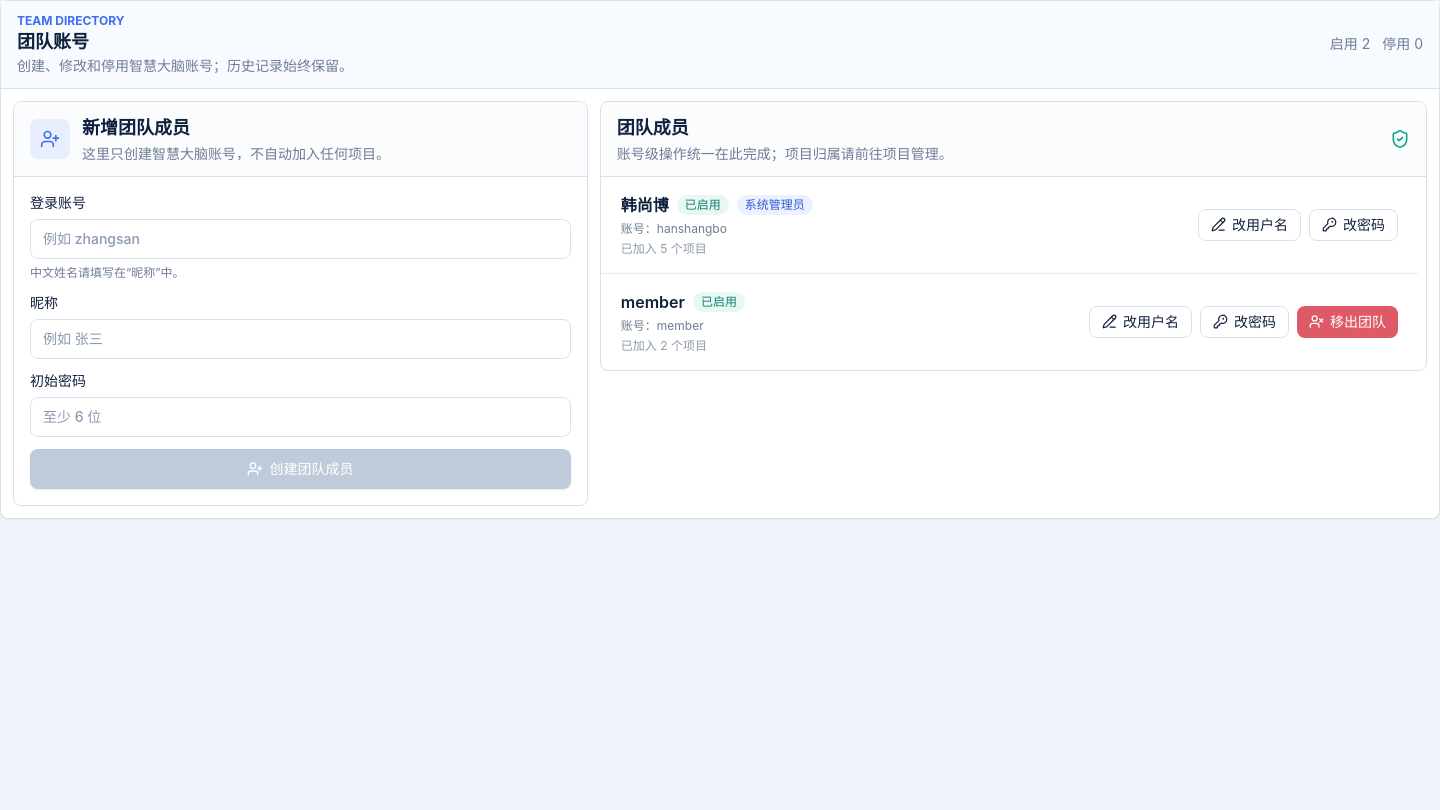
Test: TeamPage › creates and deactivates SmartBrain team members from one system-admin page
Expected: the heading "团队账号" is shown, [17,31,89,52]
Expected: the text "韩尚博" is shown, [621,192,669,216]
Type "newmember" into the field labelled "登录账号" at (300, 238), box [30,218,571,258]
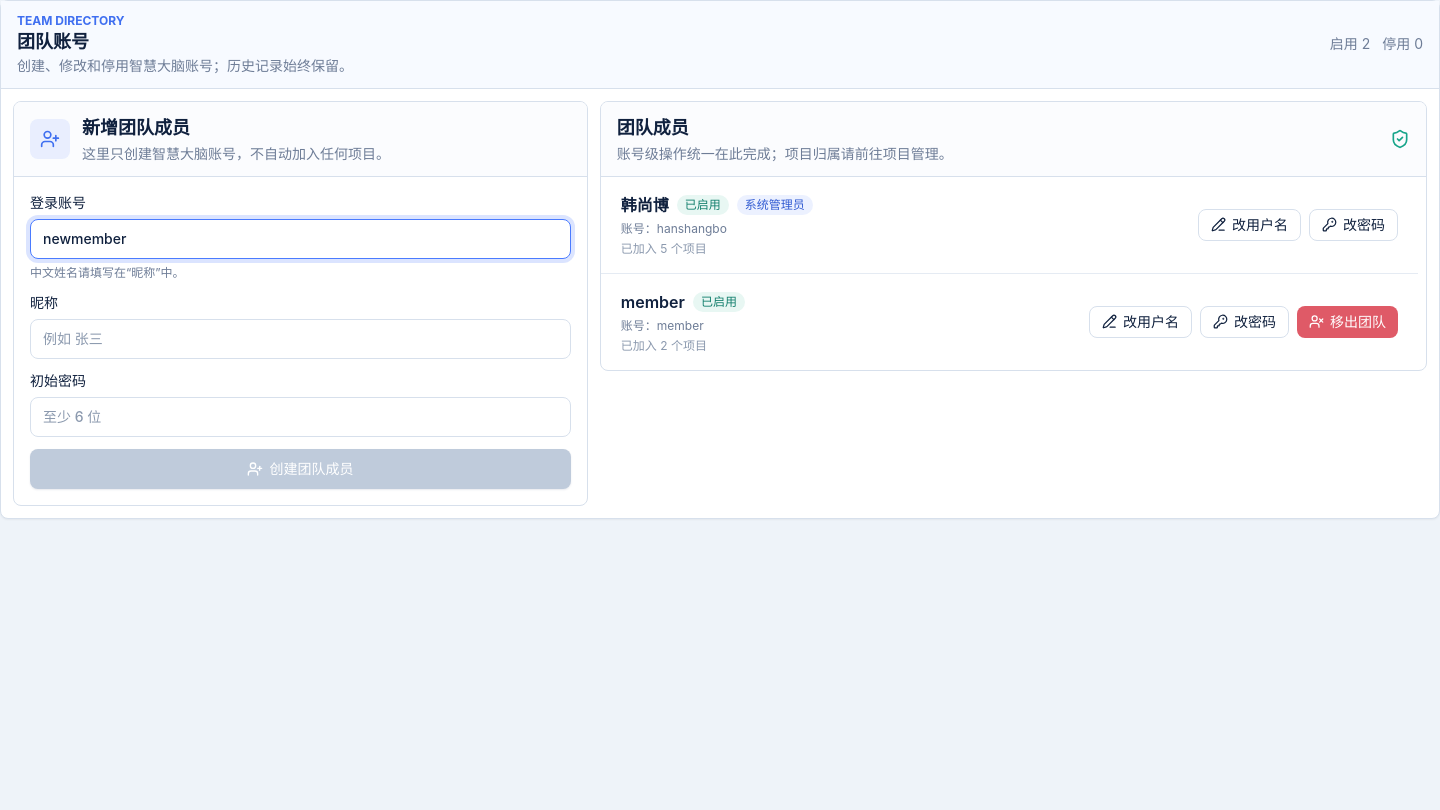
Type "新成员" into the field labelled "昵称" at (300, 338), box [30,318,571,358]
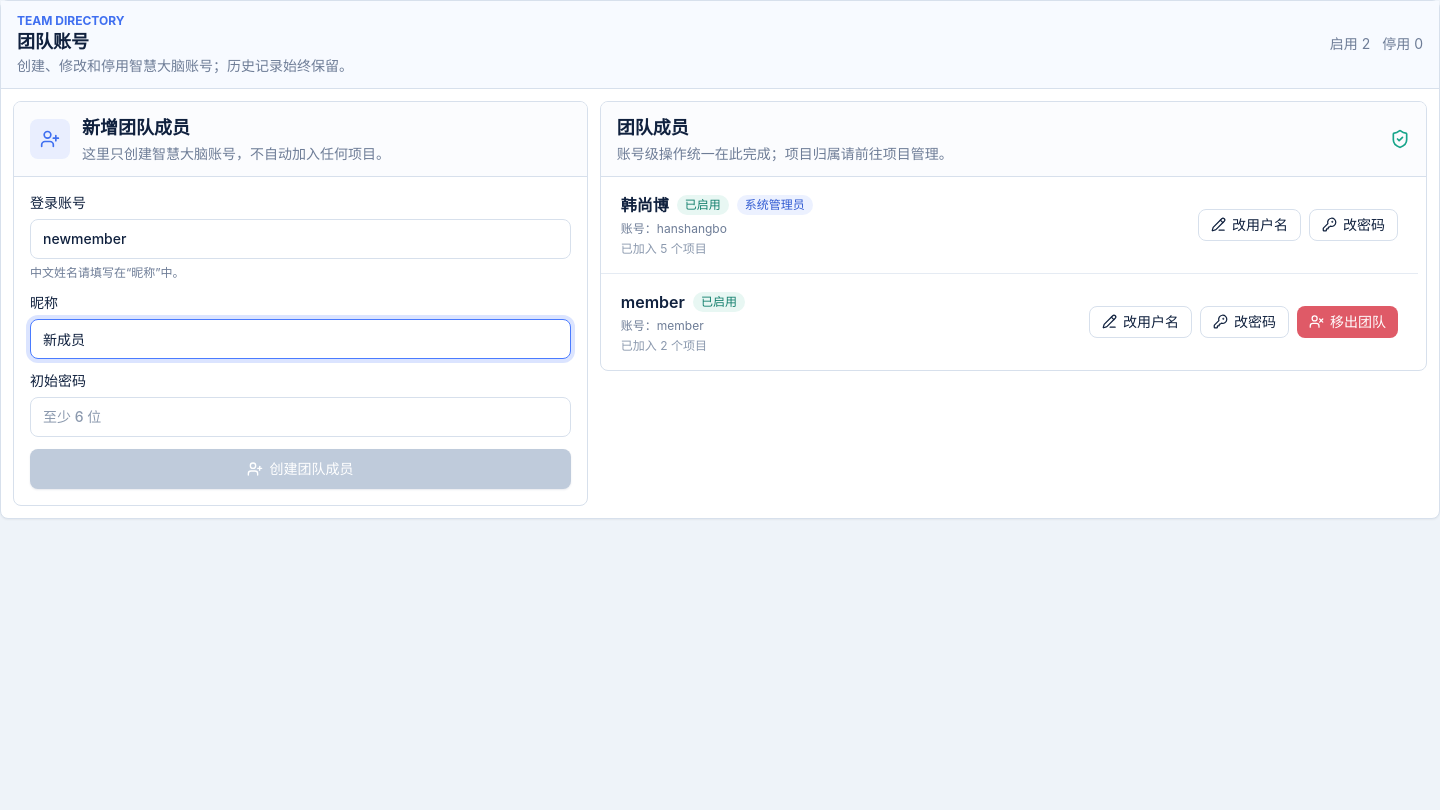
Type "654321" into the password field labelled "初始密码" at (300, 416), box [30,396,571,436]
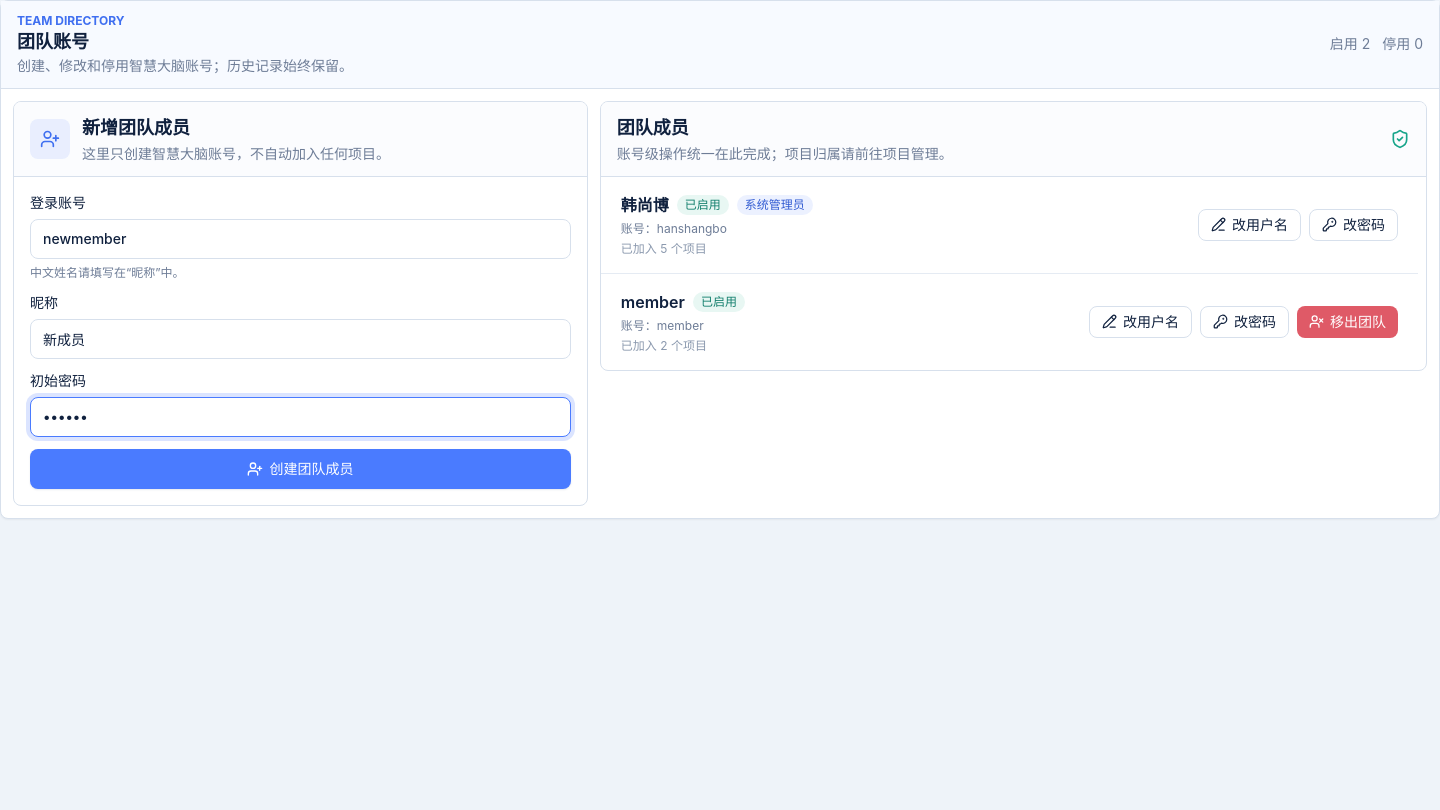
Click the button "创建团队成员" at (300, 468), box [30,448,571,488]
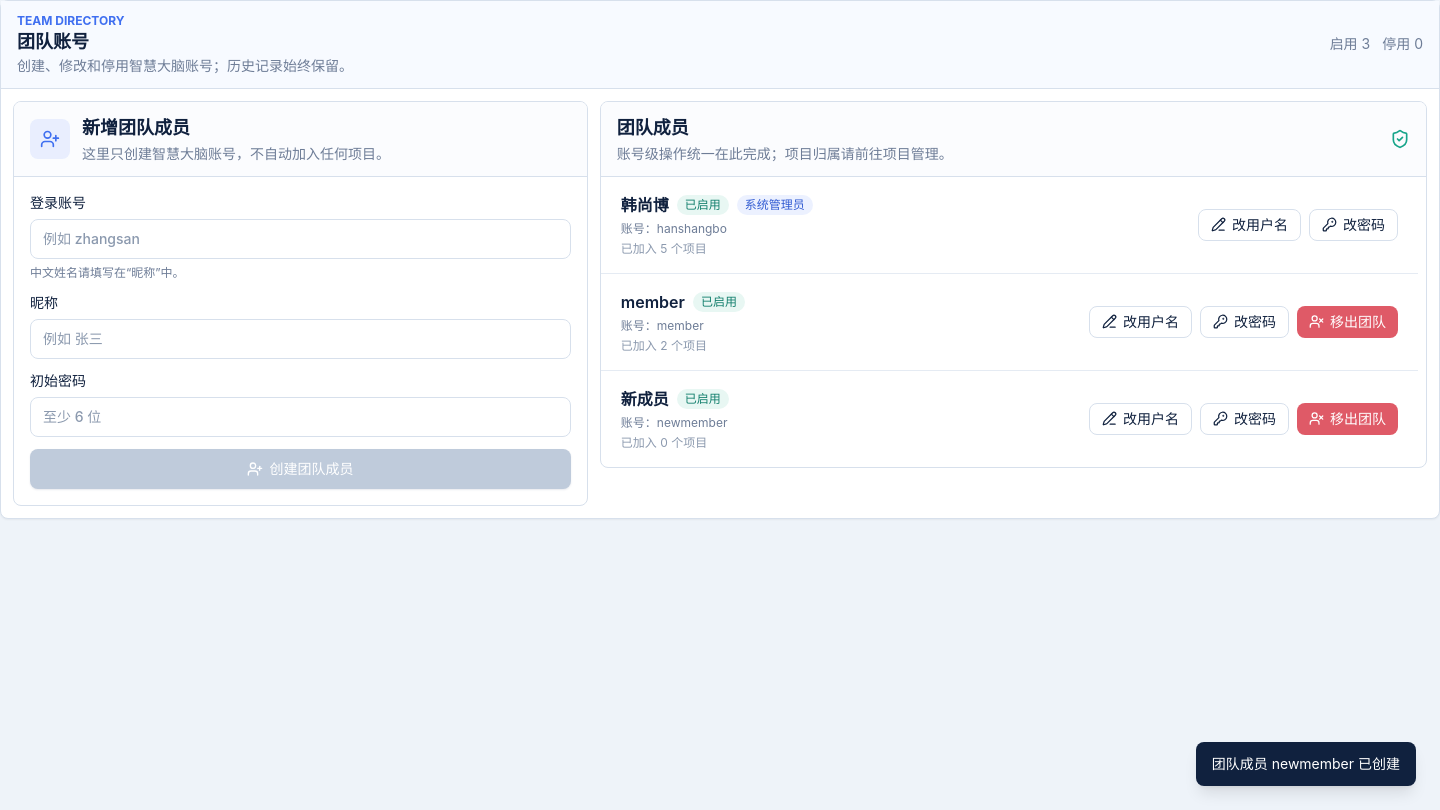
Result: the text "新成员" is shown at [621,386,669,410]
Click the button with aria-label "移出团队 member" at (1348, 322), box [1297,306,1398,338]
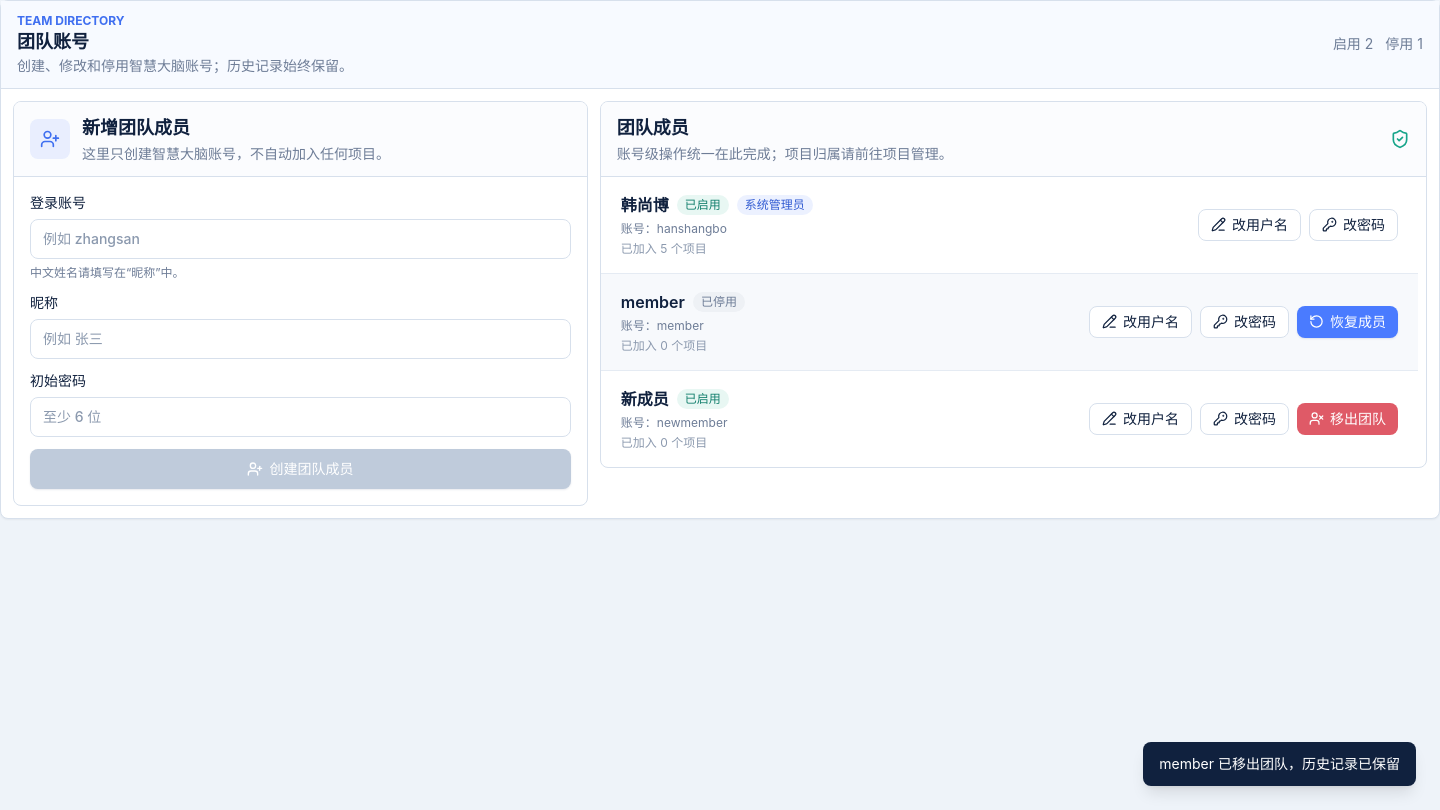
Result: the text "已停用" is shown at [693,292,745,312]
Result: the button with aria-label "恢复成员 member" is shown at [1297,306,1398,338]
